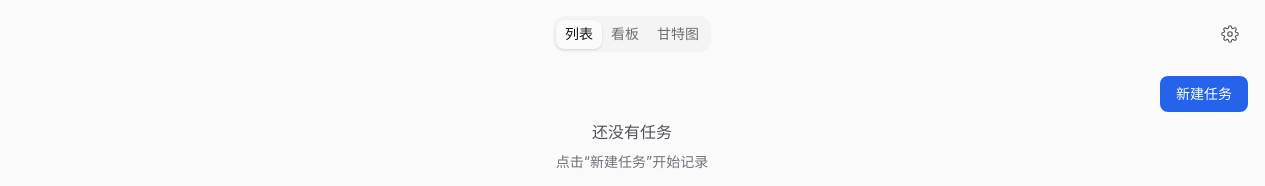
Test: App view switching (S1, S7) › active view renders the real list (empty state) after switching
The image size is (1265, 186).
Expected: the element showing "列表 看板 甘特图" is shown, [553,16,711,52]
Expected: the text "还没有任务" is shown, [592,120,672,144]
Click the tab "看板" at (625, 34), box [602,20,648,48]
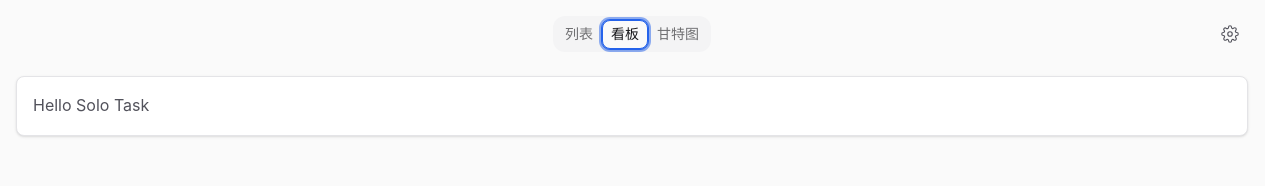
切回列表视图后仍正常渲染真实列表的空状态
Click the tab "列表" at (579, 34), box [556,20,602,48]
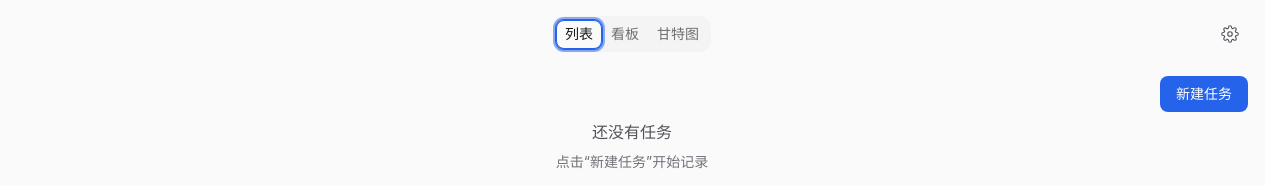
Expected: the text "还没有任务" is shown, [592,120,672,144]
